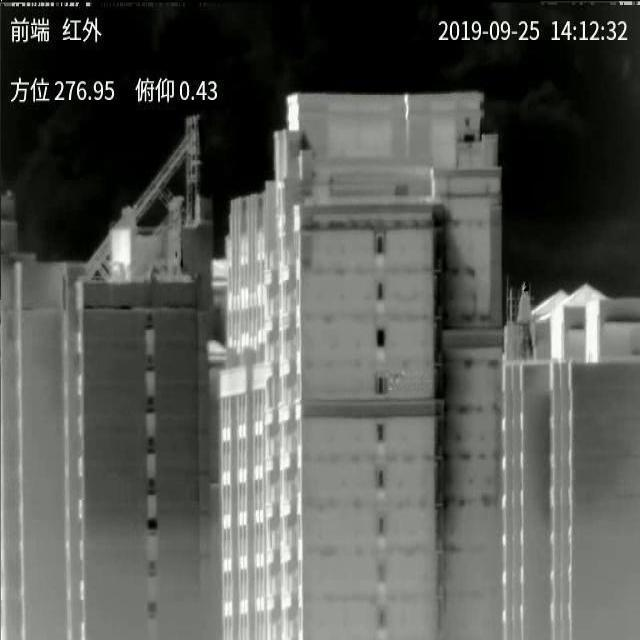drone: (384, 370, 406, 392)
